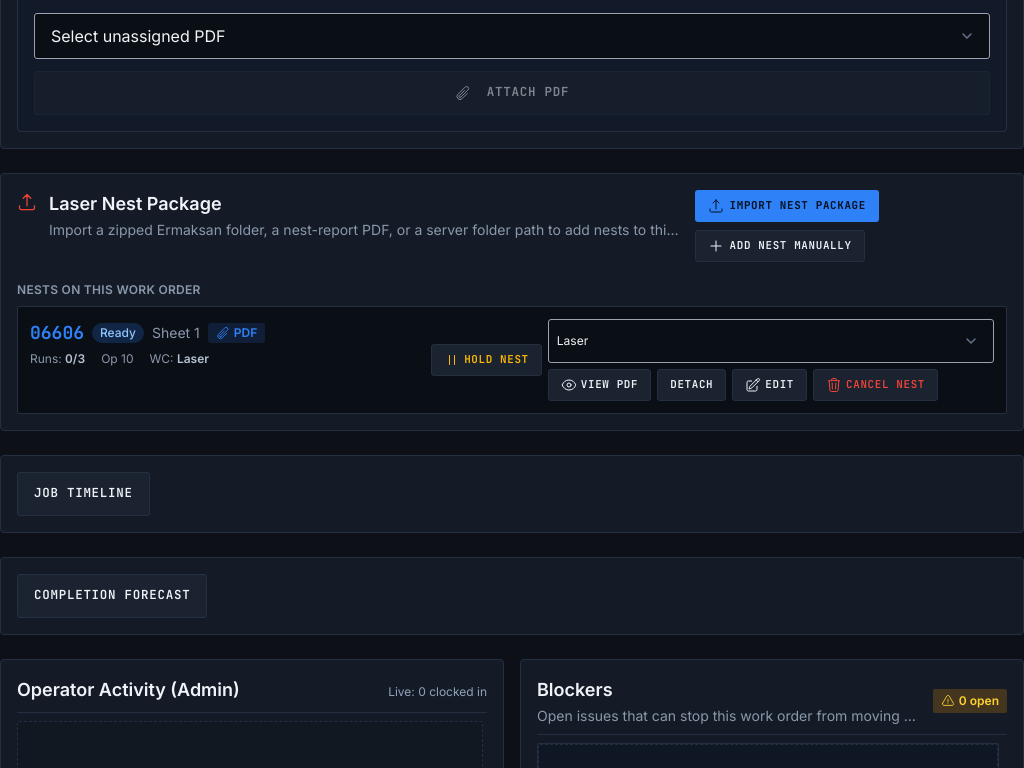
Test: opens View PDF in the same popup and dismisses it through the backdrop
(page scrolled)
What coordinates should you click on to do the following:
click the button "View PDF"
I would click on:
 (600, 384)
Its box is top-left (548, 368), bottom-right (651, 400).
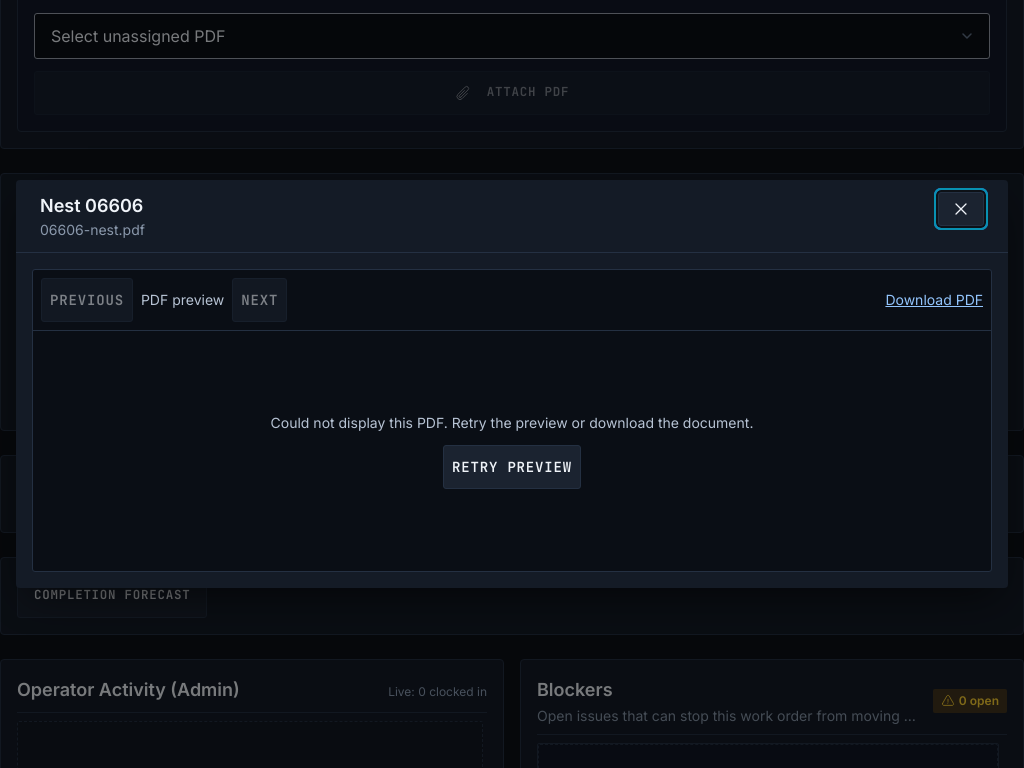
What coordinates should you click on to do the following:
click the element that starts with "Nest 06606"
I would click on:
 (512, 722)
Its box is top-left (0, 0), bottom-right (1023, 767).
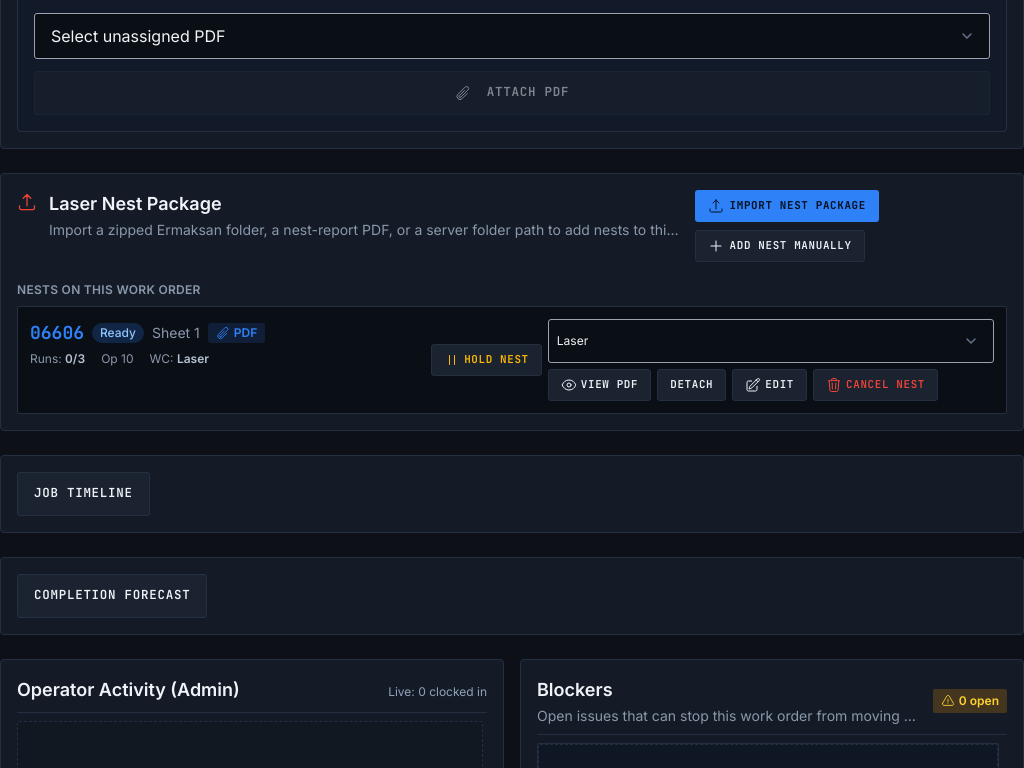
Expected: the dialog is gone
